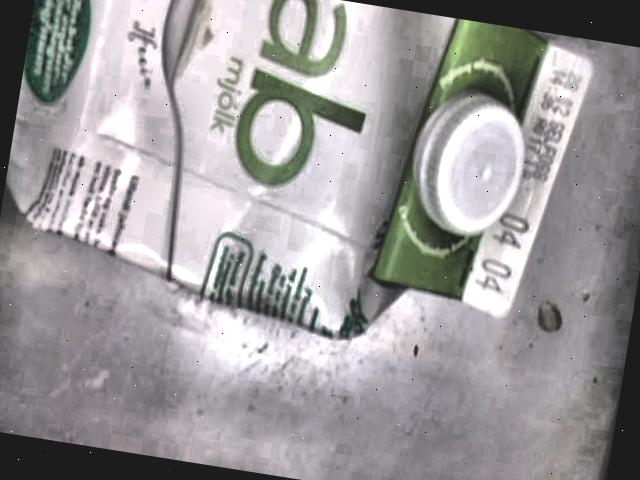Paper: (4, 0, 595, 338)
